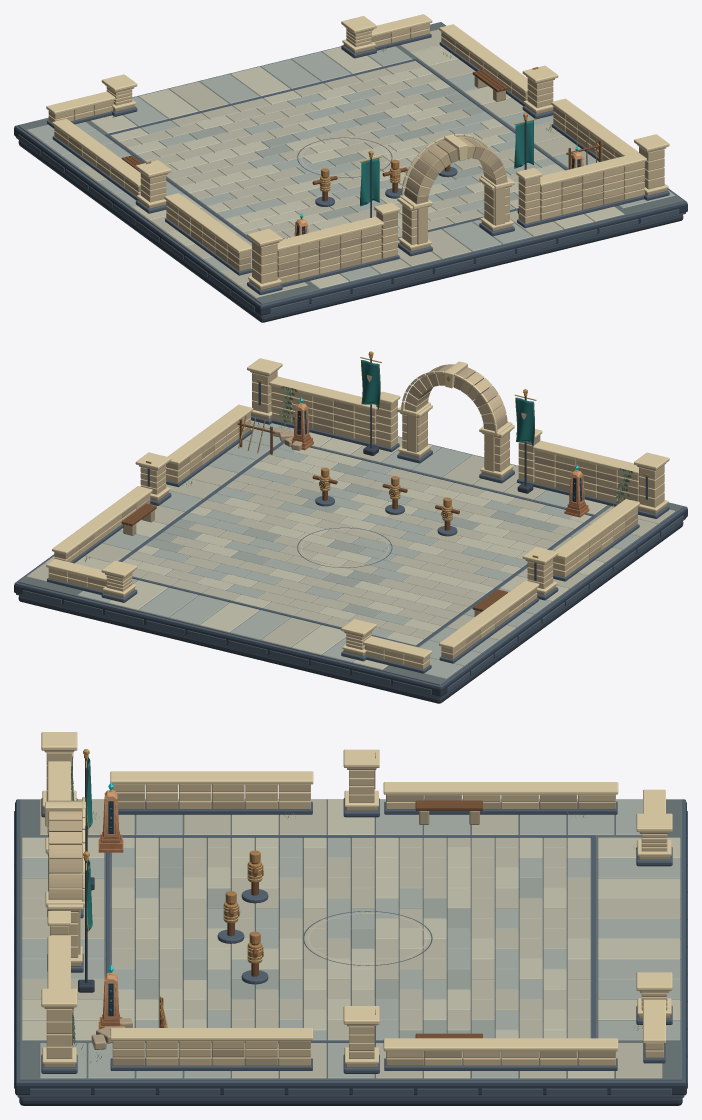
The model's file is TrainingCourtyard.glb.
3 views of the same model, one above another, from view 1: azimuth 30°, elevation 25°; view 2: azimuth 150°, elevation 25°; view 3: azimuth 270°, elevation 25° (orthographic). The views are drawn at different scales.
Visible parts, largest first — view 1: Courtyard_Paving_Flat20mCore, Courtyard_Foundation, Courtyard_SideWall, Courtyard_RearWall, Courtyard_RearCornerPillar, Courtyard_GatePier, Courtyard_Gate_Arch, Courtyard_FrontReturn, Courtyard_SidePillar, Courtyard_RearStepWall, Courtyard_EntryPillar, Banner_Teal_1 (+4 smaller); view 2: Courtyard_Paving_Flat20mCore, Courtyard_Foundation, Courtyard_SideWall, Courtyard_RearWall, Courtyard_FrontReturn, Courtyard_GatePier, Courtyard_RearCornerPillar, Courtyard_Gate_Arch, Courtyard_SidePillar, Courtyard_EntryPillar, Courtyard_RearStepWall, Banner_Teal_1 (+5 smaller); view 3: Courtyard_Paving_Flat20mCore, Courtyard_SideWall, Courtyard_Foundation, Courtyard_SidePillar, Courtyard_RearCornerPillar, Courtyard_Gate_Arch, Courtyard_EntryPillar, Courtyard_RearWall, Courtyard_FrontReturn, Courtyard_GatePier, Meshy_RuneObelisk_1_0, Bench_Oak_1 (+7 smaller).
Boxes of the visible parts, <box> form: Courtyard_Paving_Flat20mCore: <box>18,22,683,304</box>; Courtyard_Foundation: <box>14,22,687,322</box>; Courtyard_SideWall: <box>52,24,638,275</box>; Courtyard_RearWall: <box>277,152,646,287</box>; Courtyard_RearCornerPillar: <box>247,134,669,294</box>; Courtyard_GatePier: <box>397,175,514,256</box>; Courtyard_Gate_Arch: <box>404,135,507,204</box>; Courtyard_FrontReturn: <box>46,14,432,128</box>; Courtyard_SidePillar: <box>135,65,558,213</box>; Courtyard_RearStepWall: <box>374,168,542,262</box>; Courtyard_EntryPillar: <box>101,16,376,116</box>; Banner_Teal_1: <box>360,150,381,217</box>; Courtyard_Paving_Flat20mCore: <box>18,420,683,685</box>; Courtyard_Foundation: <box>14,436,687,703</box>; Courtyard_SideWall: <box>52,404,639,663</box>; Courtyard_RearWall: <box>269,376,639,506</box>; Courtyard_FrontReturn: <box>46,558,432,673</box>; Courtyard_GatePier: <box>397,402,514,483</box>; Courtyard_RearCornerPillar: <box>247,358,669,518</box>; Courtyard_Gate_Arch: <box>404,361,507,431</box>; Courtyard_SidePillar: <box>135,452,558,600</box>; Courtyard_EntryPillar: <box>101,560,376,661</box>; Courtyard_RearStepWall: <box>375,391,542,484</box>; Banner_Teal_1: <box>514,389,536,493</box>; Courtyard_Paving_Flat20mCore: <box>20,799,681,1080</box>; Courtyard_SideWall: <box>110,771,618,1070</box>; Courtyard_Foundation: <box>14,799,687,1105</box>; Courtyard_SidePillar: <box>343,749,379,1073</box>; Courtyard_RearCornerPillar: <box>41,732,77,1073</box>; Courtyard_Gate_Arch: <box>45,800,85,899</box>; Courtyard_EntryPillar: <box>636,813,672,1024</box>; Courtyard_RearWall: <box>47,761,70,988</box>; Courtyard_FrontReturn: <box>643,789,665,1063</box>; Courtyard_GatePier: <box>45,837,85,972</box>; Meshy_RuneObelisk_1_0: <box>98,782,123,852</box>; Bench_Oak_1: <box>415,800,482,824</box>.
Bounding box in the file's own units: 28.09 × 7.69 × 28.09.
20 materials, 1 textured.
